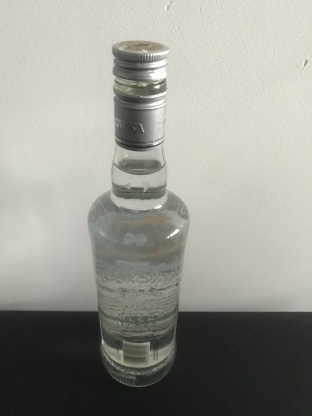nakretka: (110, 39, 169, 152)
